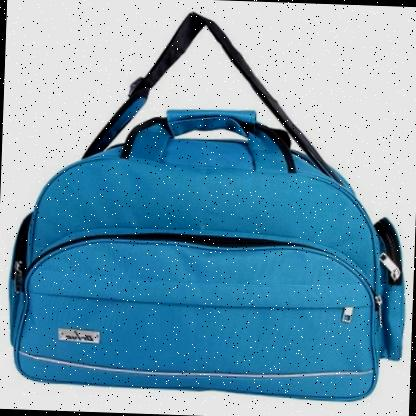bag: (2, 4, 416, 406)
